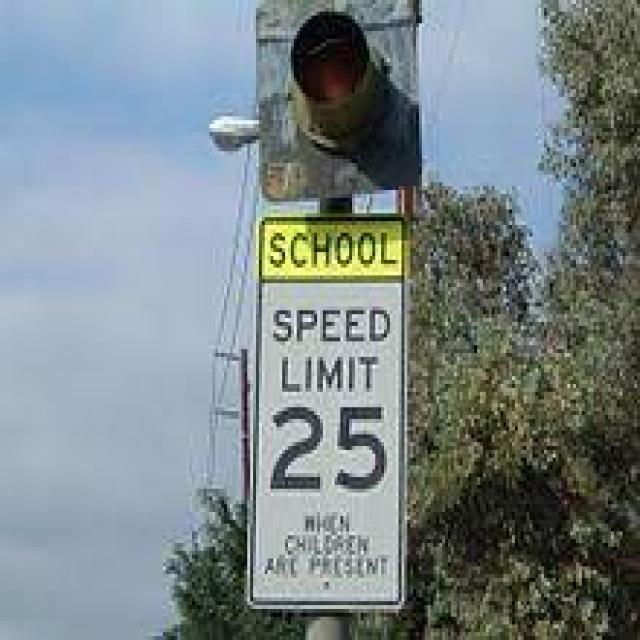speedLimit25: (255, 289, 403, 506)
